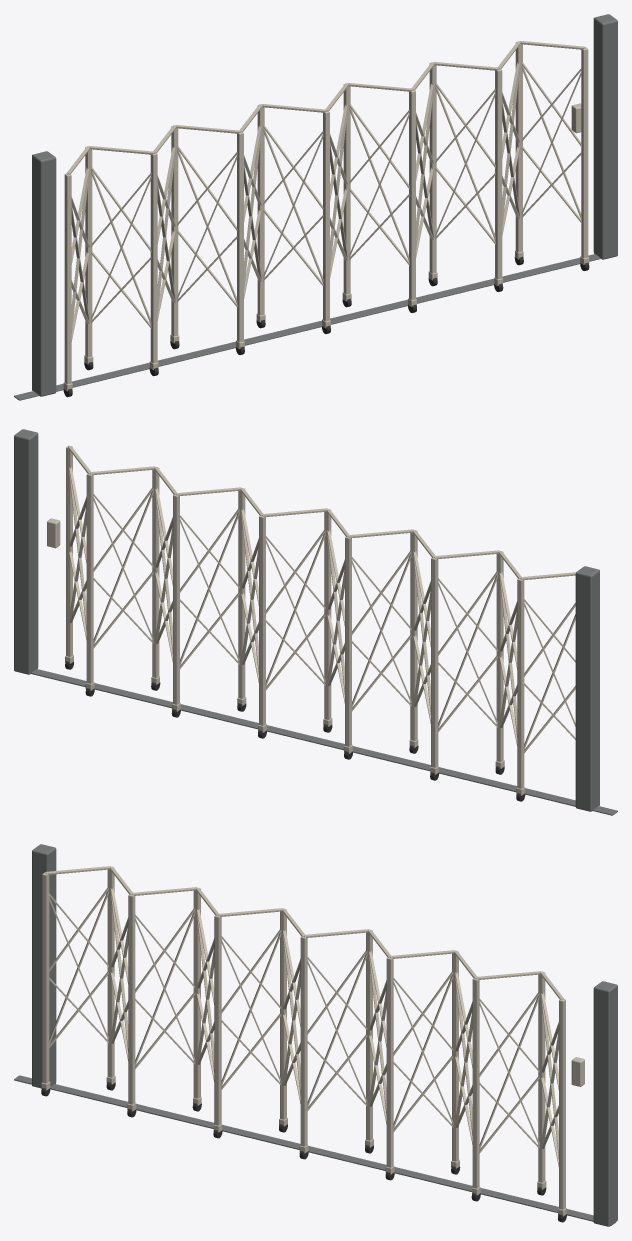
Rendered from city-accordion-sliding-gate.glb.
The picture shows the model from 3 angles, top to bottom: view 1: azimuth 30°, elevation 25°; view 2: azimuth 150°, elevation 25°; view 3: azimuth 330°, elevation 25°; orthographic projection.
Visible parts, largest first — view 1: Assembly | Champagne aluminium gate, Assembly | Dark grey gate post, Assembly | Dark caster rubber; view 2: Assembly | Champagne aluminium gate, Assembly | Dark grey gate post, Assembly | Dark caster rubber; view 3: Assembly | Champagne aluminium gate, Assembly | Dark grey gate post, Assembly | Dark caster rubber.
Boxes of the visible parts, <box> form: Assembly | Champagne aluminium gate: <box>63,41,589,391</box>; Assembly | Dark grey gate post: <box>14,14,617,400</box>; Assembly | Dark caster rubber: <box>63,256,589,397</box>; Assembly | Champagne aluminium gate: <box>47,445,575,795</box>; Assembly | Dark grey gate post: <box>14,429,617,815</box>; Assembly | Dark caster rubber: <box>65,661,525,801</box>; Assembly | Champagne aluminium gate: <box>41,866,584,1216</box>; Assembly | Dark grey gate post: <box>14,844,617,1226</box>; Assembly | Dark caster rubber: <box>41,1082,566,1222</box>.
Size of the model in its own units: 3.7 by 1.4 by 0.3.
